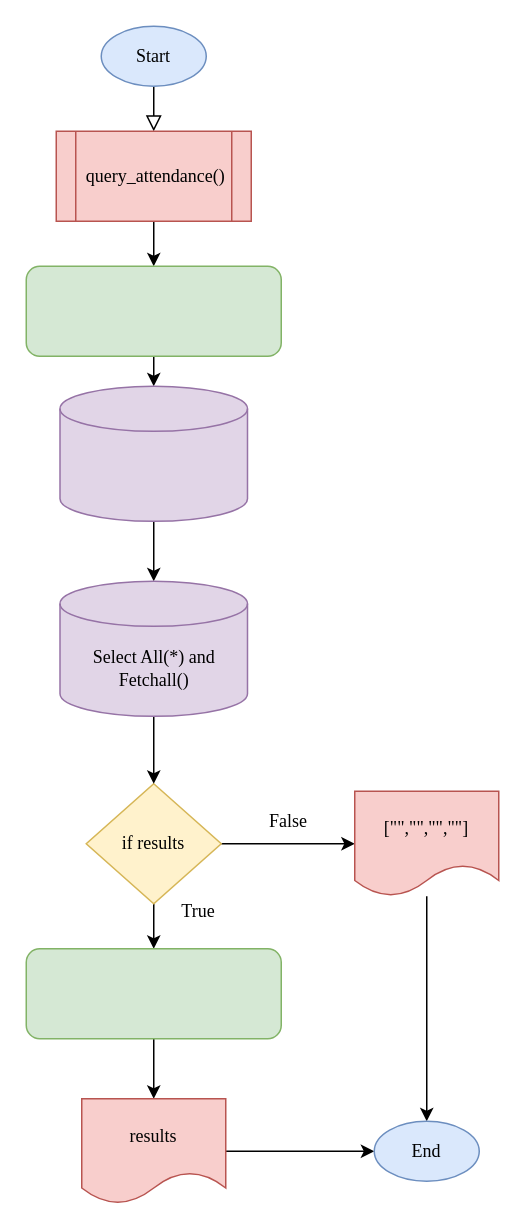
Image size: 525x1230. Some labels were removed from this diagram. The shapes that lost their labels are listed below. From the top down, each one's box as (x1, y1, x2, y2) in pixels, then its label:
(25, 265, 281, 356): results = self.execute
(58, 385, 248, 521): Access Database Table: "AttendanceData"
(25, 947, 281, 1039): results.append(["","","",""])
